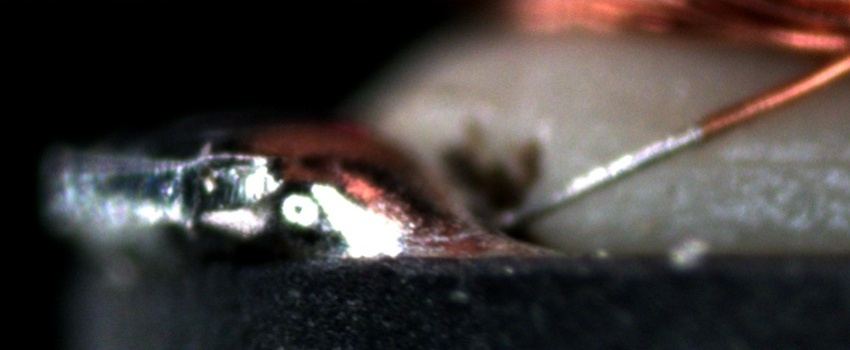DL: (727, 131, 849, 192)
TS: (497, 124, 703, 228)
